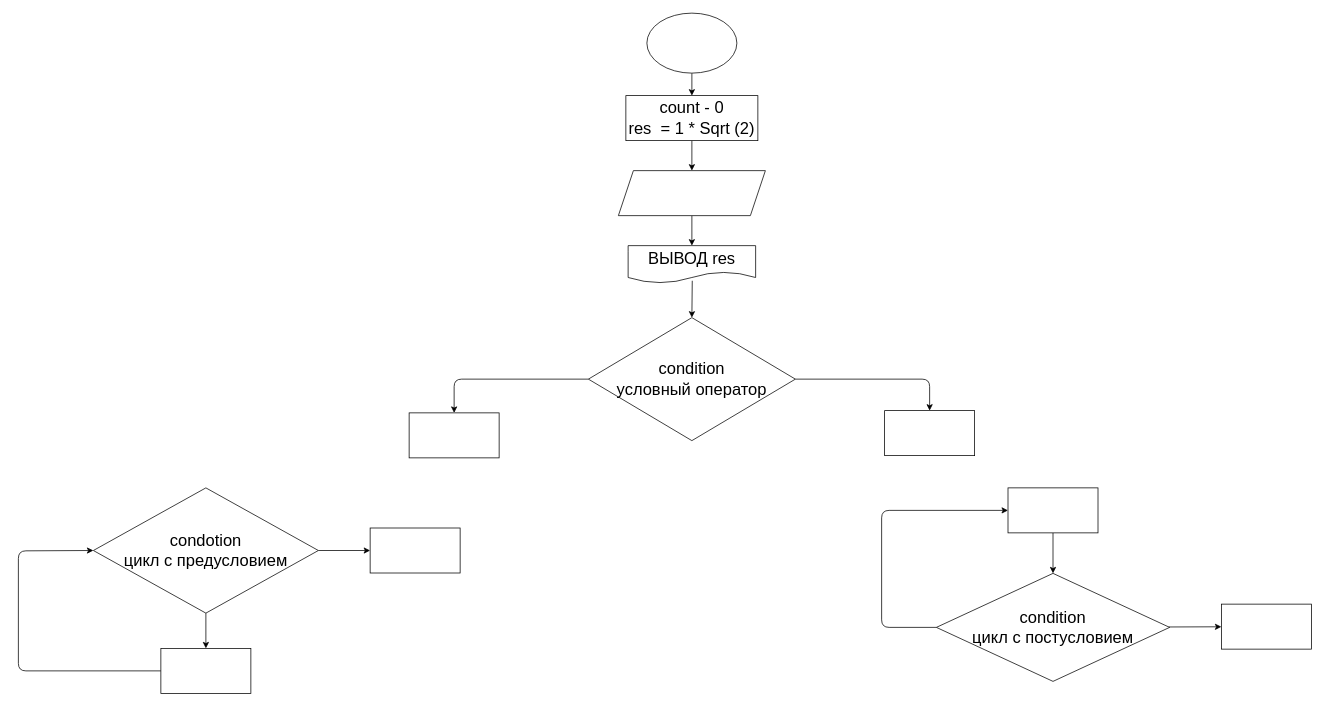
Some shapes in this 1325 by 707 pixel diagram are drawn without their labels. Each missing label, with the box of its shape:
START END: (646, 12, 737, 73)
ВВОД count: (618, 170, 765, 216)
